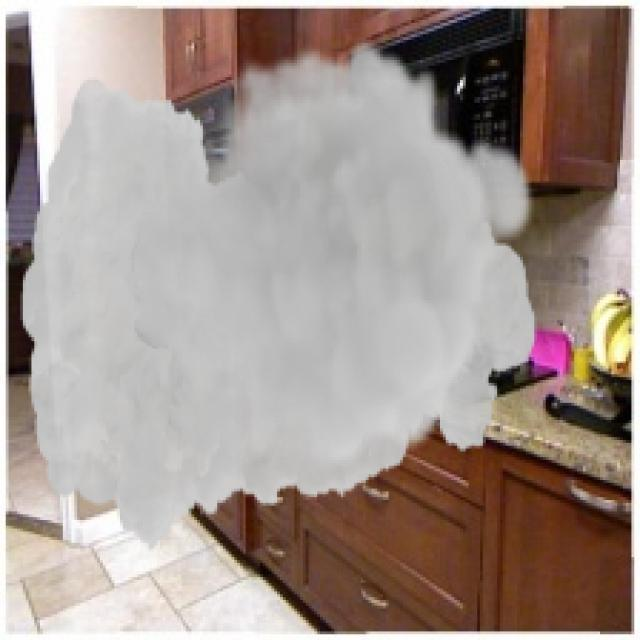Smoke: (20, 37, 537, 554)
